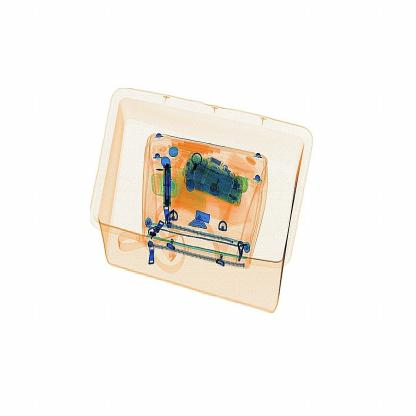scissors: (157, 160, 177, 212)
